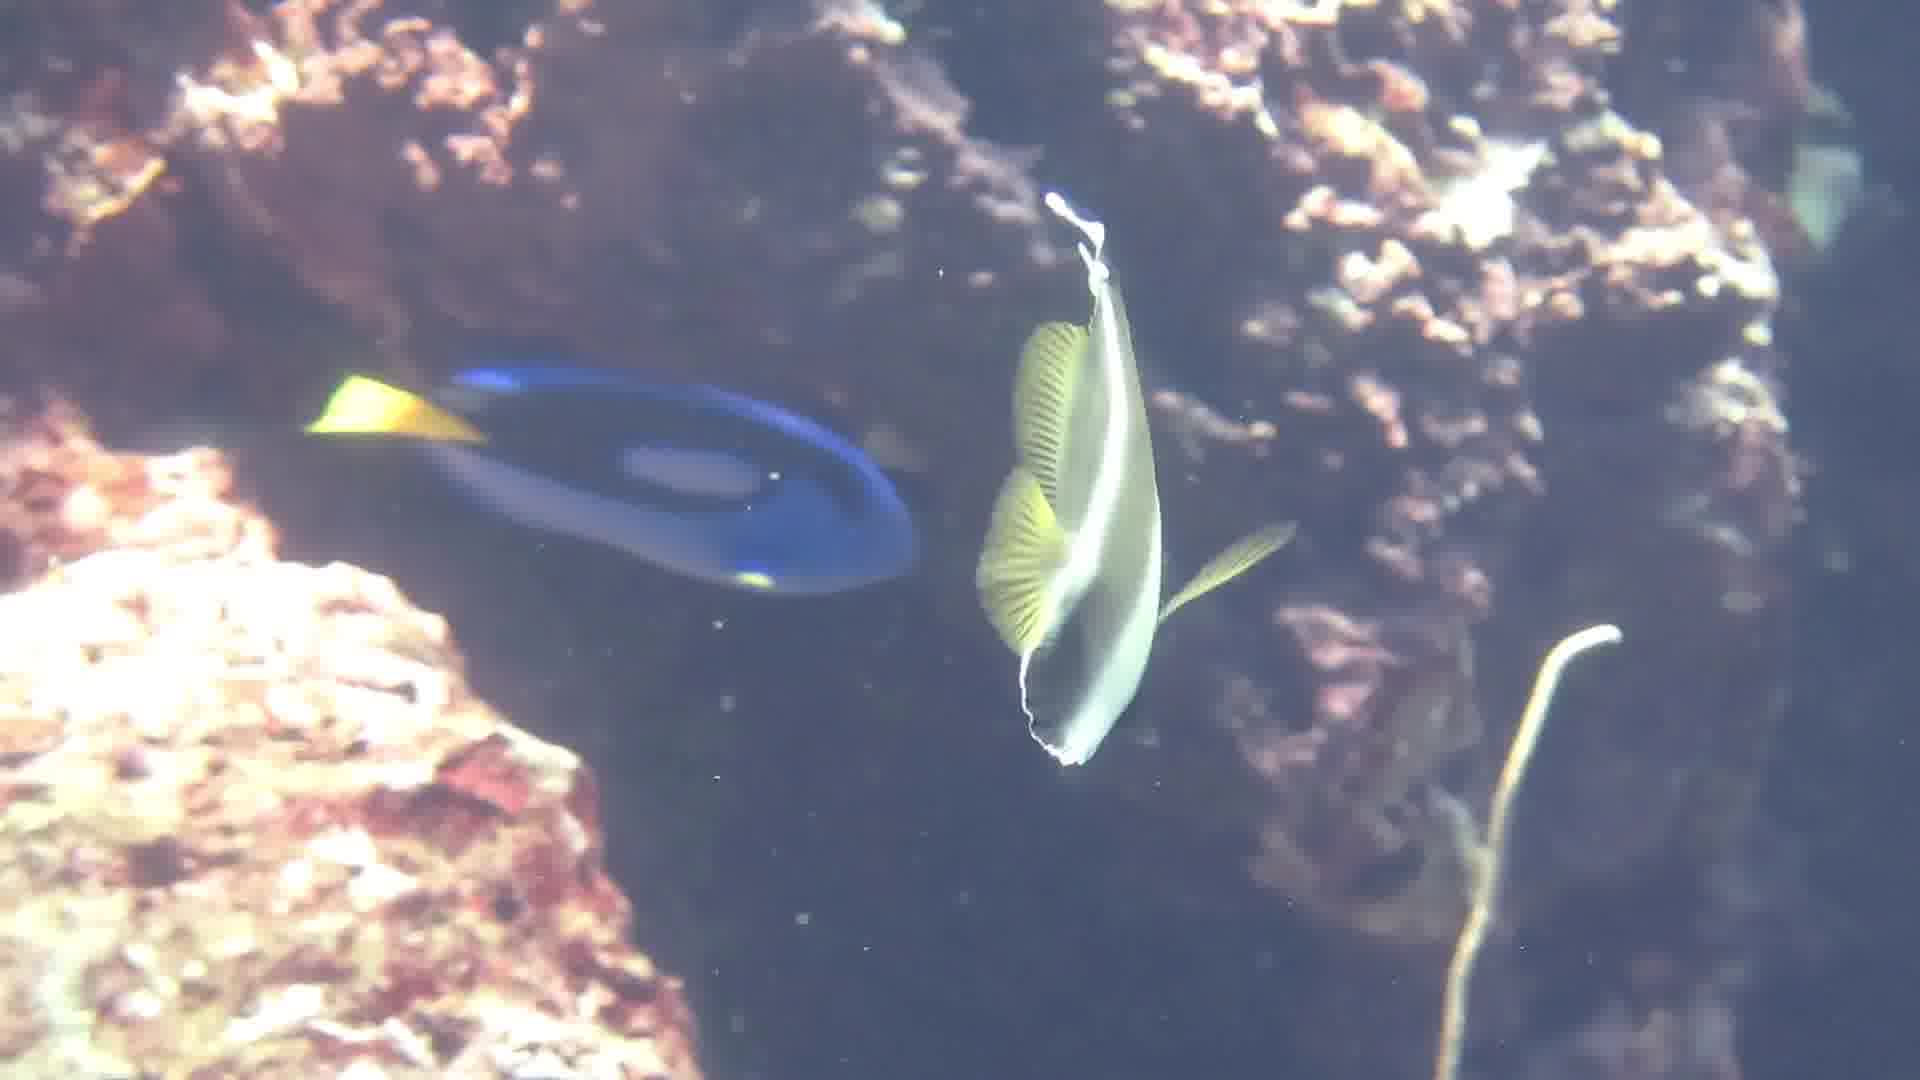Heniochus chrysostomus: (926, 175, 1274, 814)
